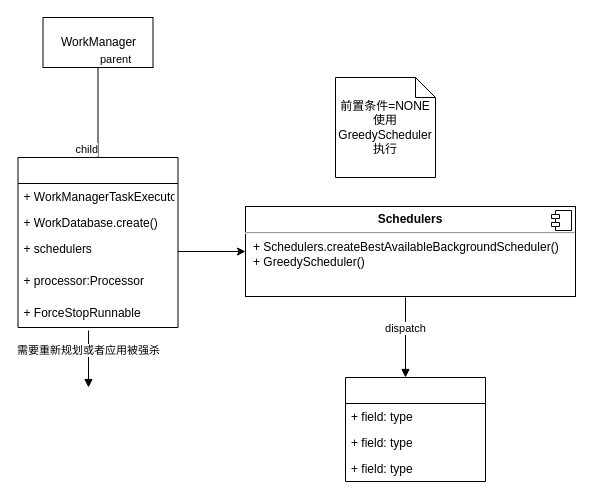
Some shapes in this 593 by 502 pixel diagram are drawn without their labels. Each missing label, with the box of its shape:
WorkManagerImpl: (17, 156, 178, 328)
WorkWrapper: (344, 376, 486, 482)
